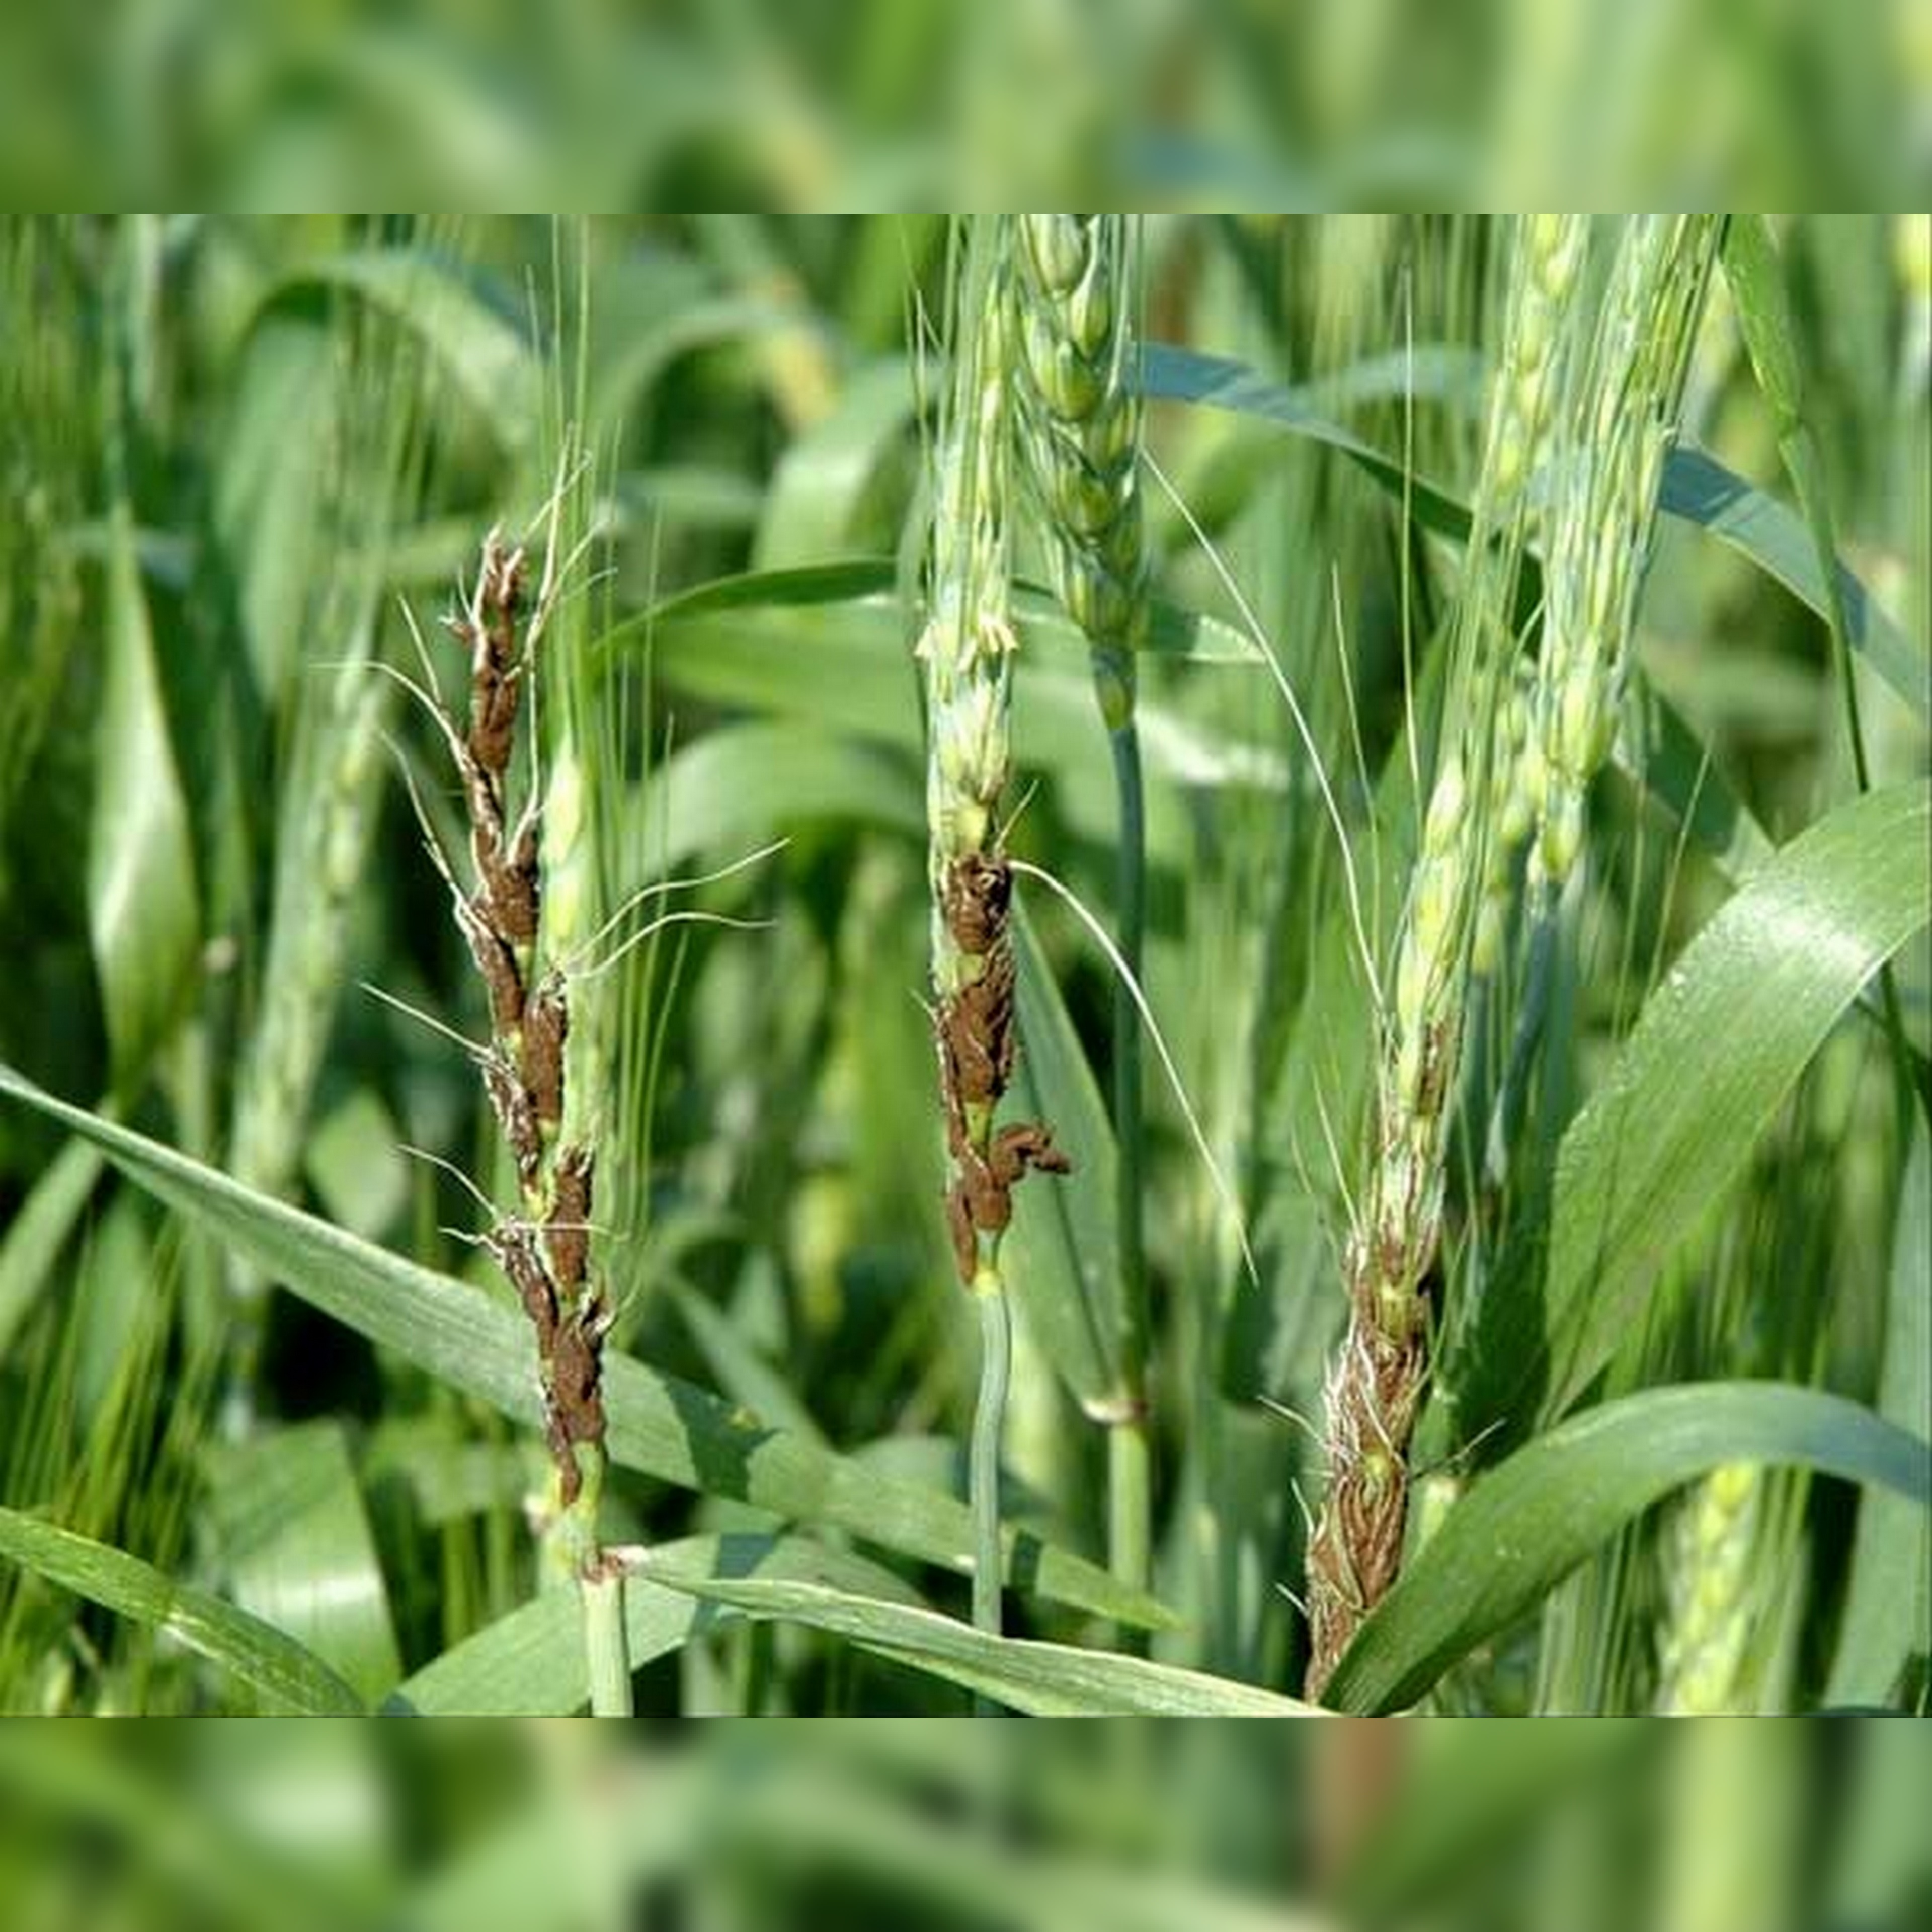Wheat Loose Smut: (879, 862, 1491, 1670), (412, 527, 649, 1479)
